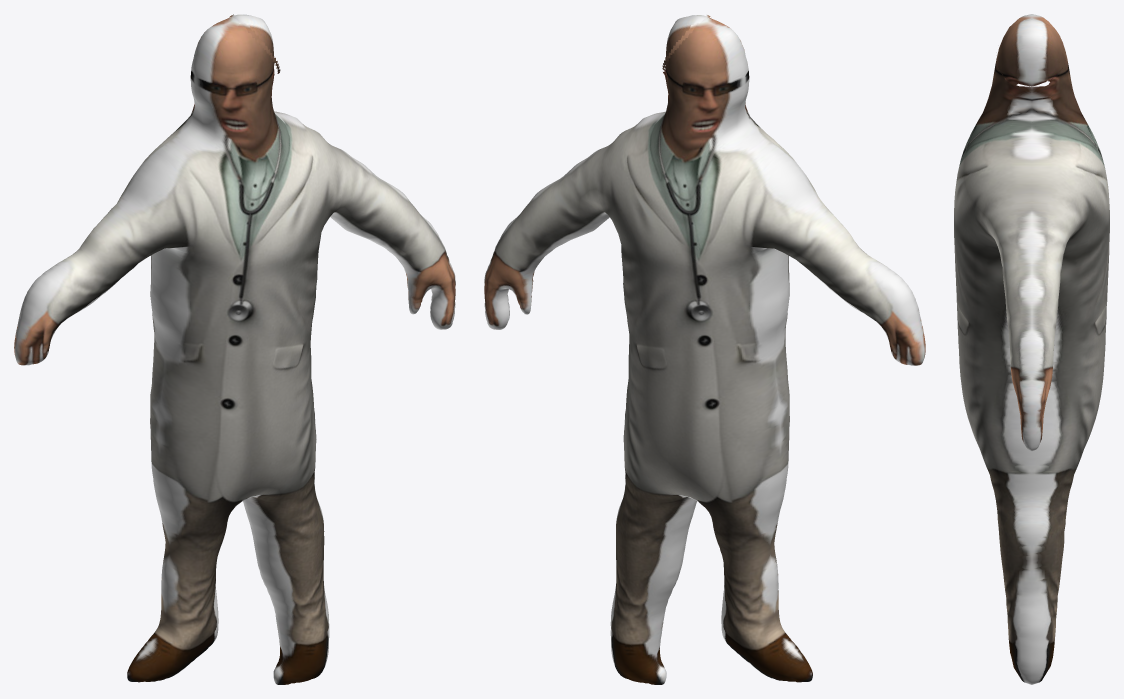
File: mm_lakare0_project.glb
3 views of the same model, side by side, from view 1: azimuth 30°, elevation 25°; view 2: azimuth 150°, elevation 25°; view 3: azimuth 270°, elevation 25° (orthographic). The views are drawn at different scales.
Size of the model in its own units: 5.22 by 7.72 by 1.72.
1 material, 1 textured.
